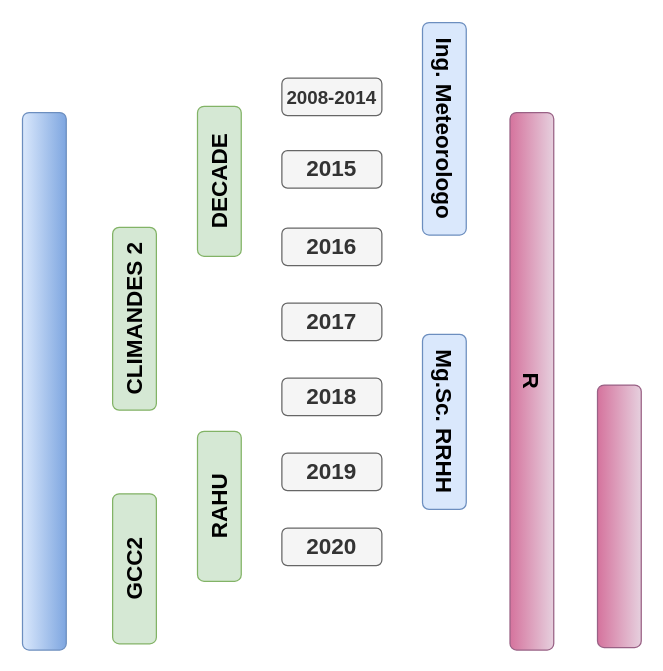
This 663x671 diagram has some shape labels left out. The shapes that lost their labels are listed below. From the top down, each one's centre as x and y in pixels, then its label:
At point 43,380: "¿ Hidrología o Meteorología ?".
At point 618,516: "python".
